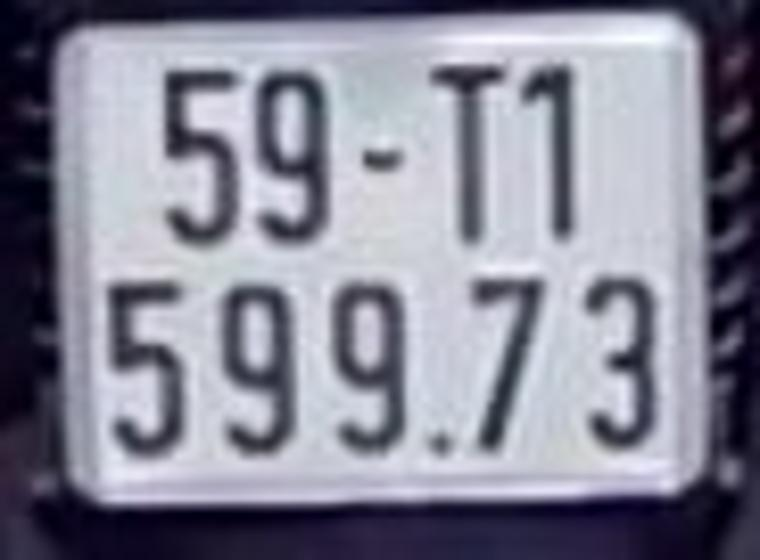-: (351, 151, 410, 175)
.: (431, 432, 454, 460)
1: (522, 65, 577, 237)
3: (579, 275, 659, 448)
5: (105, 278, 189, 454), (159, 71, 236, 243)
7: (466, 276, 548, 454)
9: (252, 71, 336, 234), (334, 283, 409, 457), (222, 281, 295, 454)
T: (430, 62, 504, 249)
